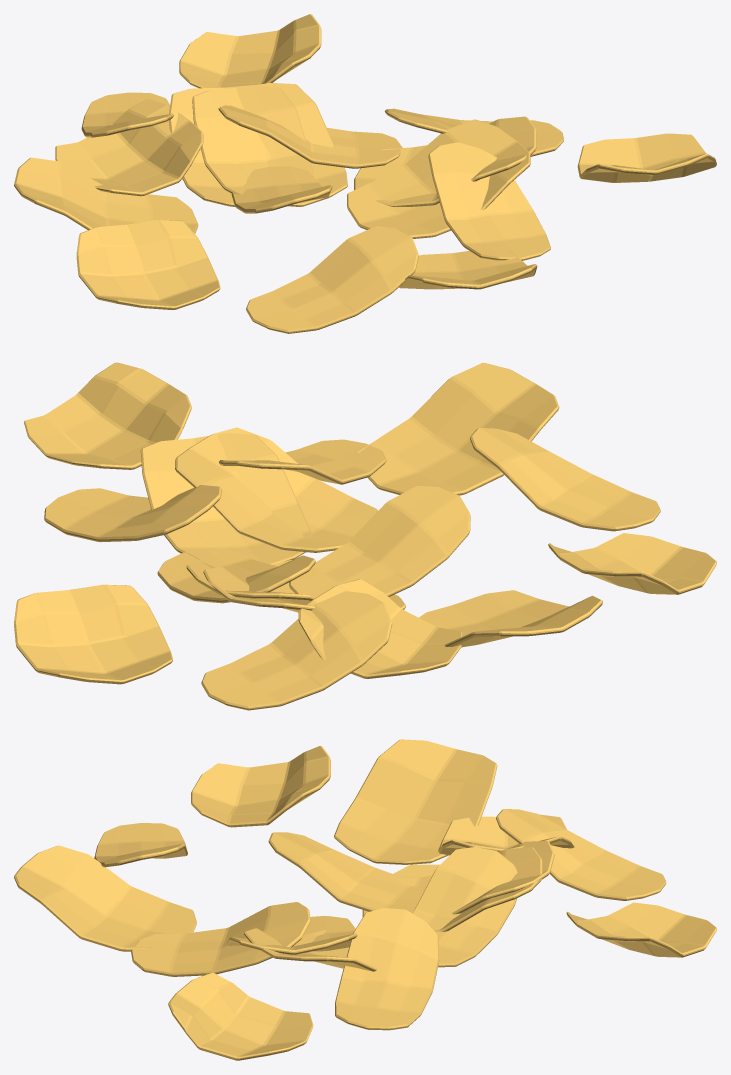
File: chips_2_partyassets.fbx
The picture shows the model from 3 angles, top to bottom: view 1: azimuth 30°, elevation 25°; view 2: azimuth 150°, elevation 25°; view 3: azimuth 270°, elevation 25°; orthographic projection. The views are drawn at different scales.
Visible parts, largest first — view 1: chips_2_partyassets; view 2: chips_2_partyassets; view 3: chips_2_partyassets.
Part boxes in pixels (x1,y1,x2,y2): chips_2_partyassets: (14, 14, 716, 333); chips_2_partyassets: (14, 362, 716, 710); chips_2_partyassets: (14, 739, 716, 1060).
Size of the model in its own units: 38.04 by 3.38 by 38.77.
